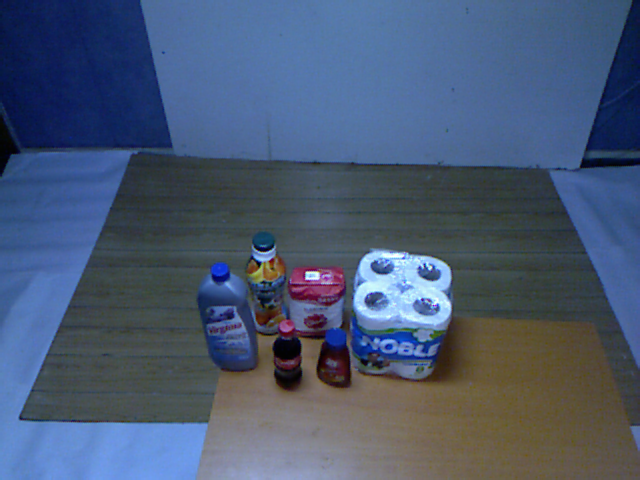cera: (190, 262, 263, 376)
coca: (268, 316, 306, 394)
confort: (347, 246, 458, 386)
harina: (284, 262, 349, 344)
ketchup: (314, 329, 355, 393)
yogurt: (238, 231, 294, 343)
